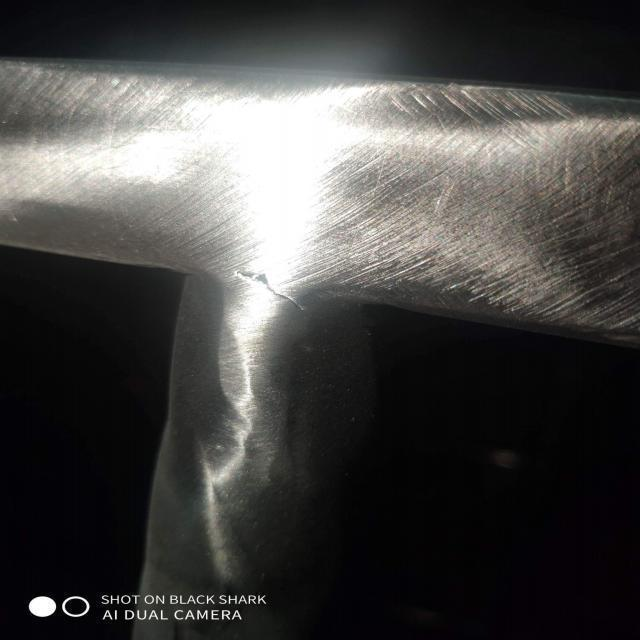Crack: (230, 266, 306, 312)
